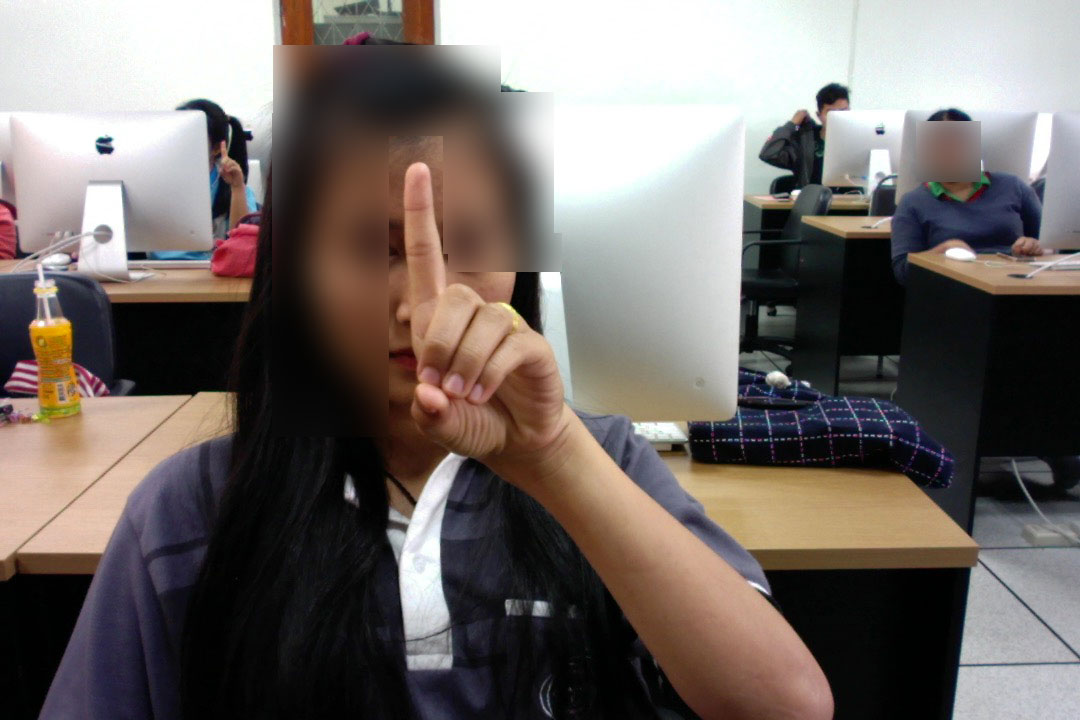dor: (399, 158, 579, 475)
